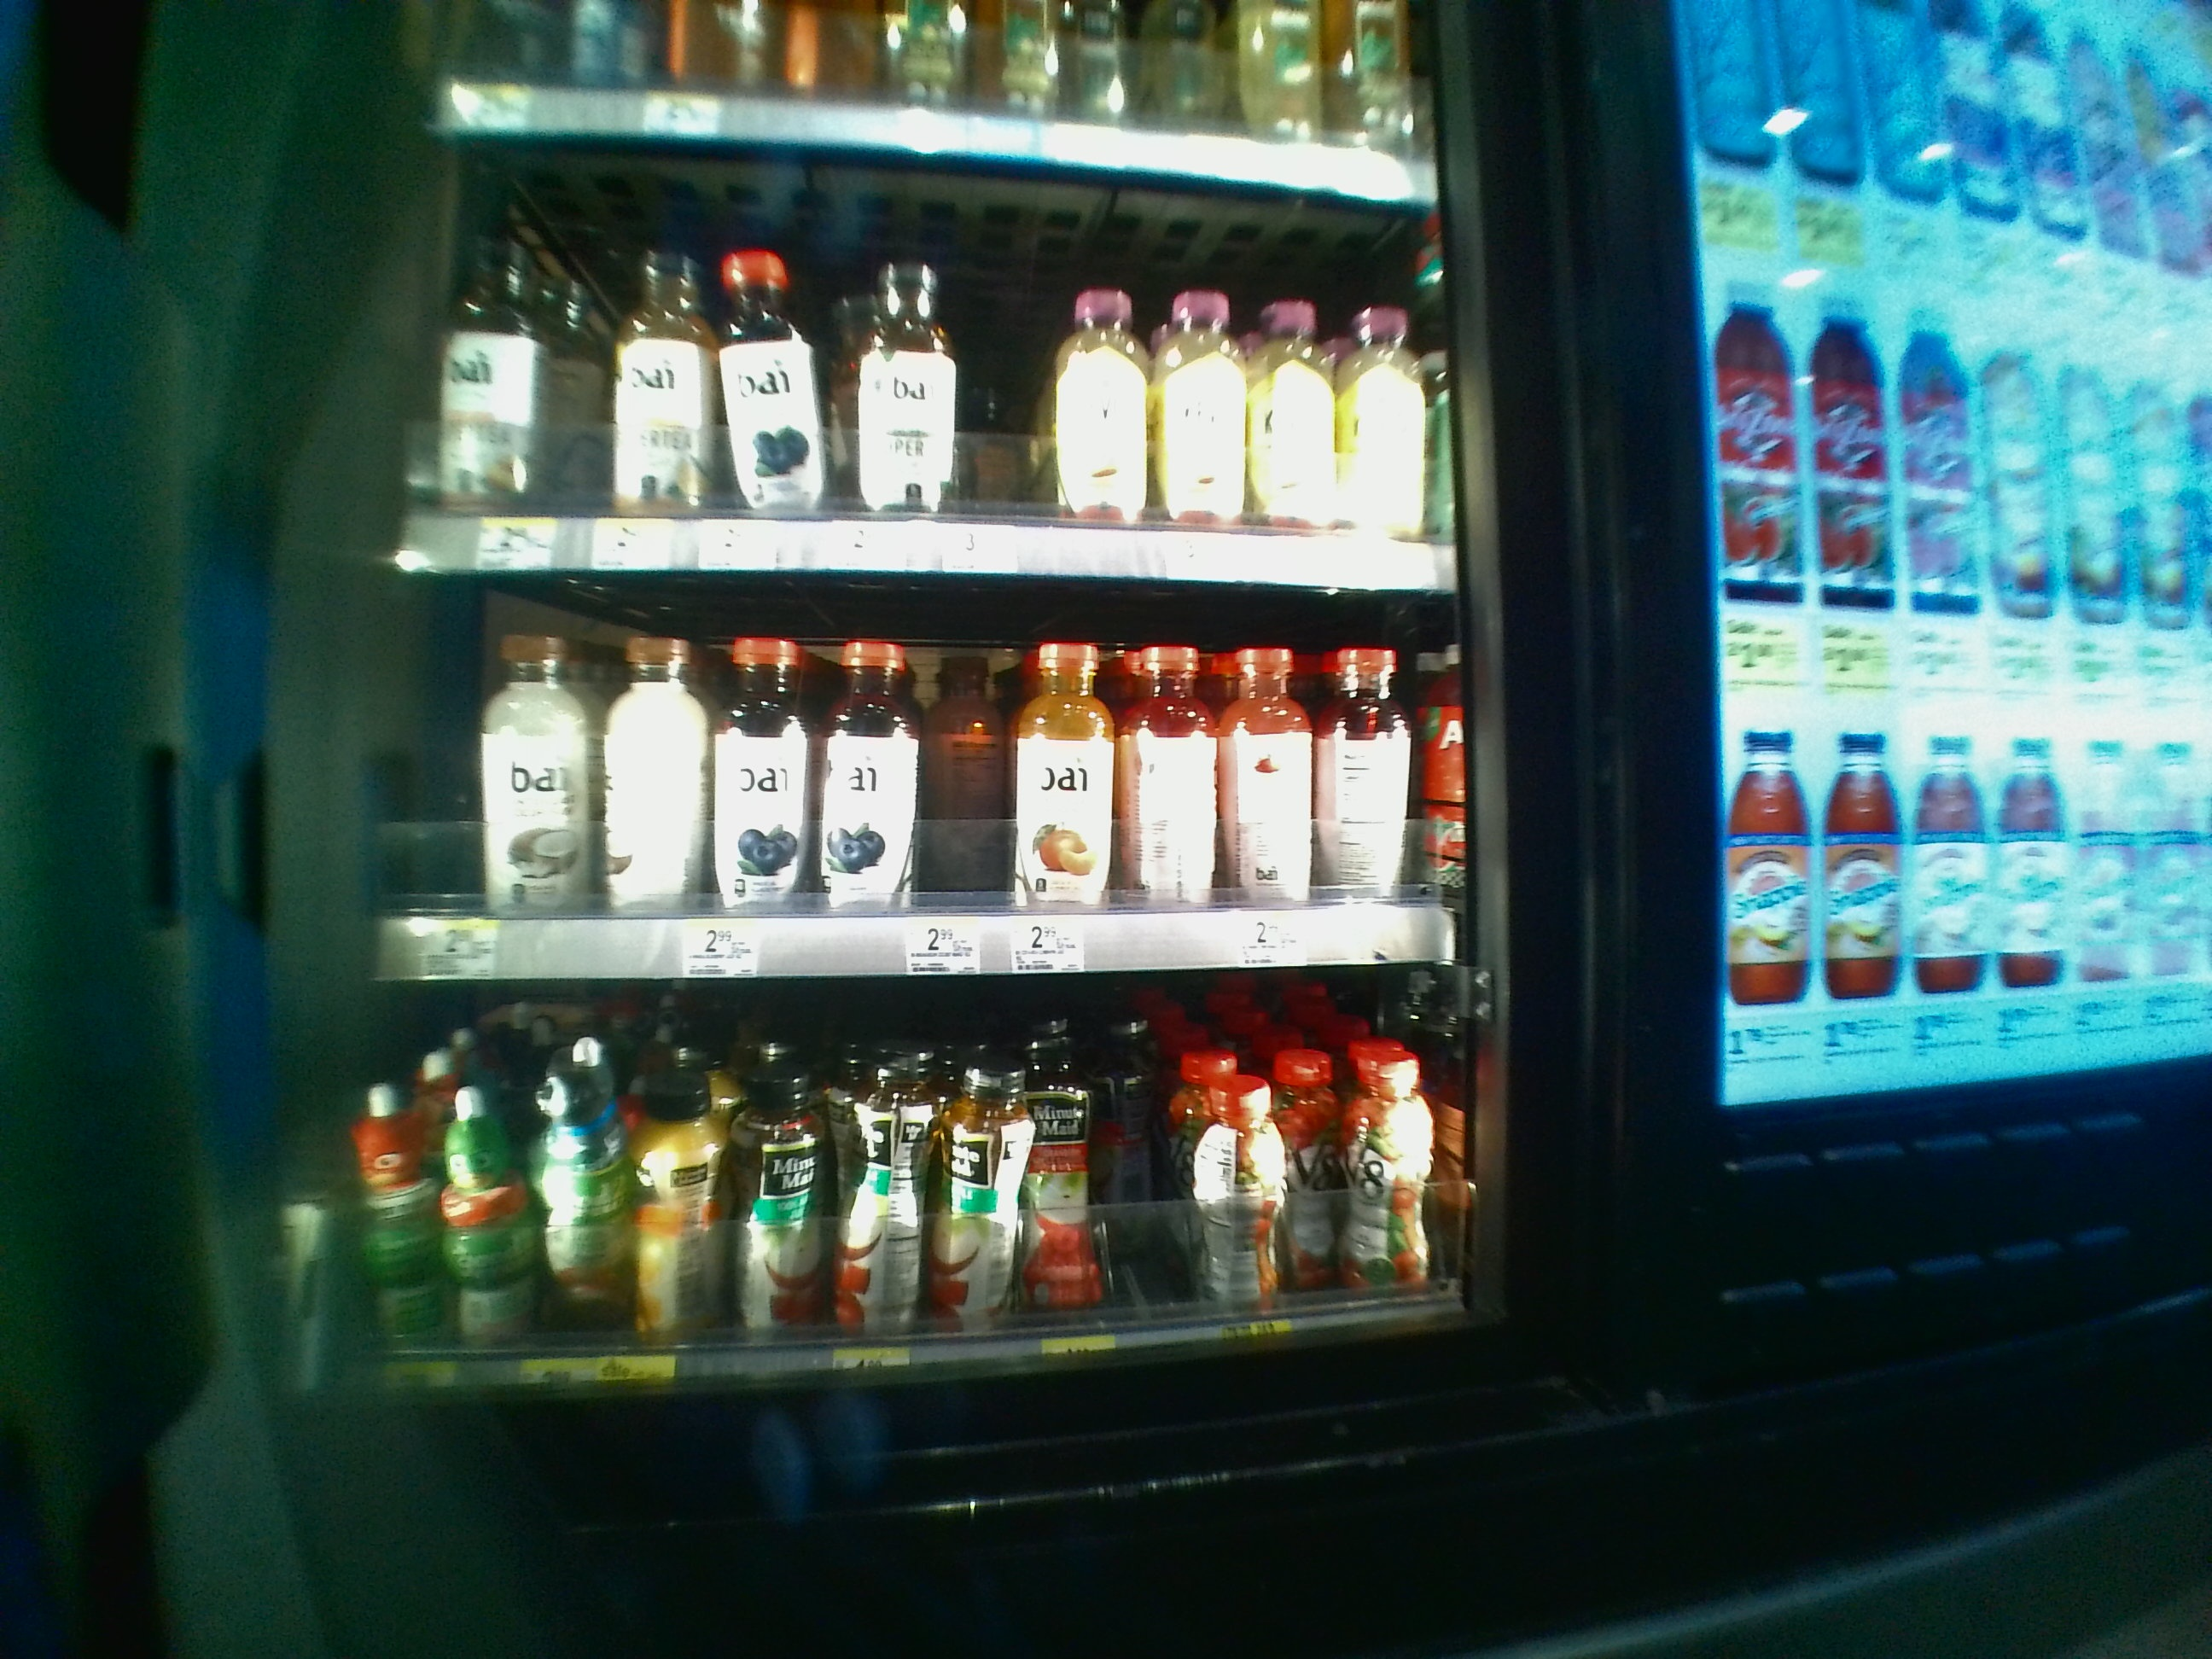shelf: (399, 134, 1447, 580), (350, 997, 1479, 1406), (371, 586, 1470, 985)
